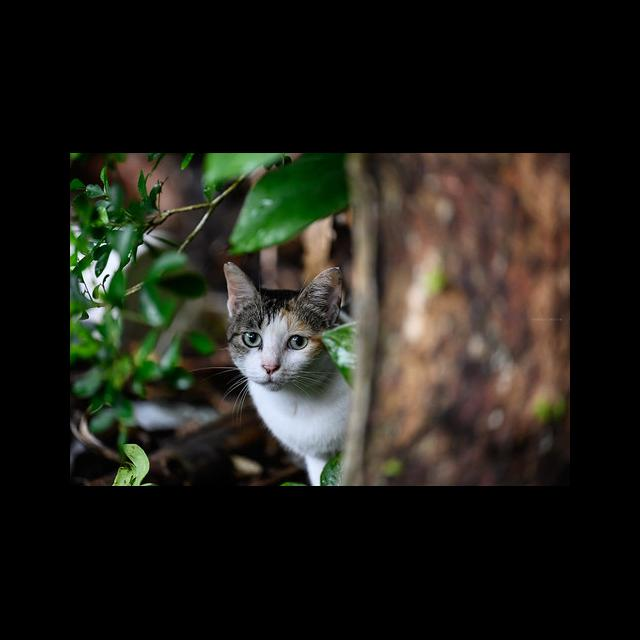animals: (222, 262, 342, 486)
